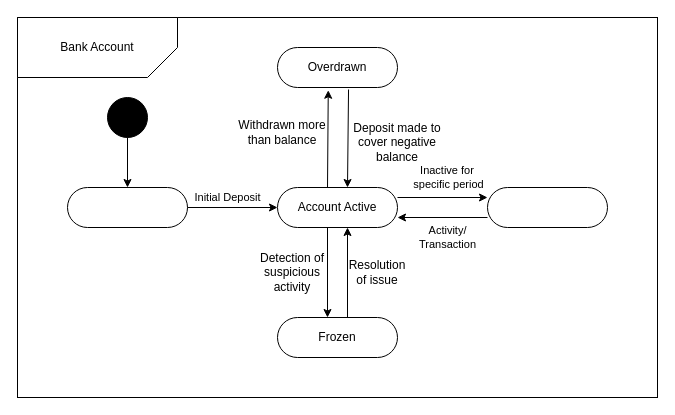
Image size: 675x415. Some labels were removed from this diagram. Here are the shapes that lost their labels. From the top down, the centre of each, then its label:
the point at 127,207: Account Created
the point at 547,207: Dormant
